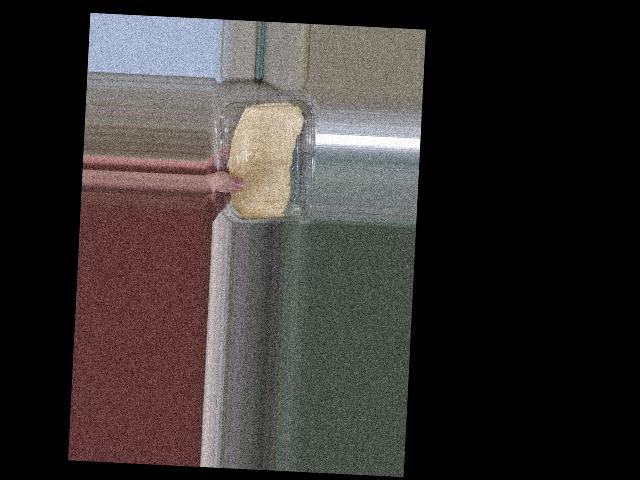cheese: (219, 87, 319, 227)
